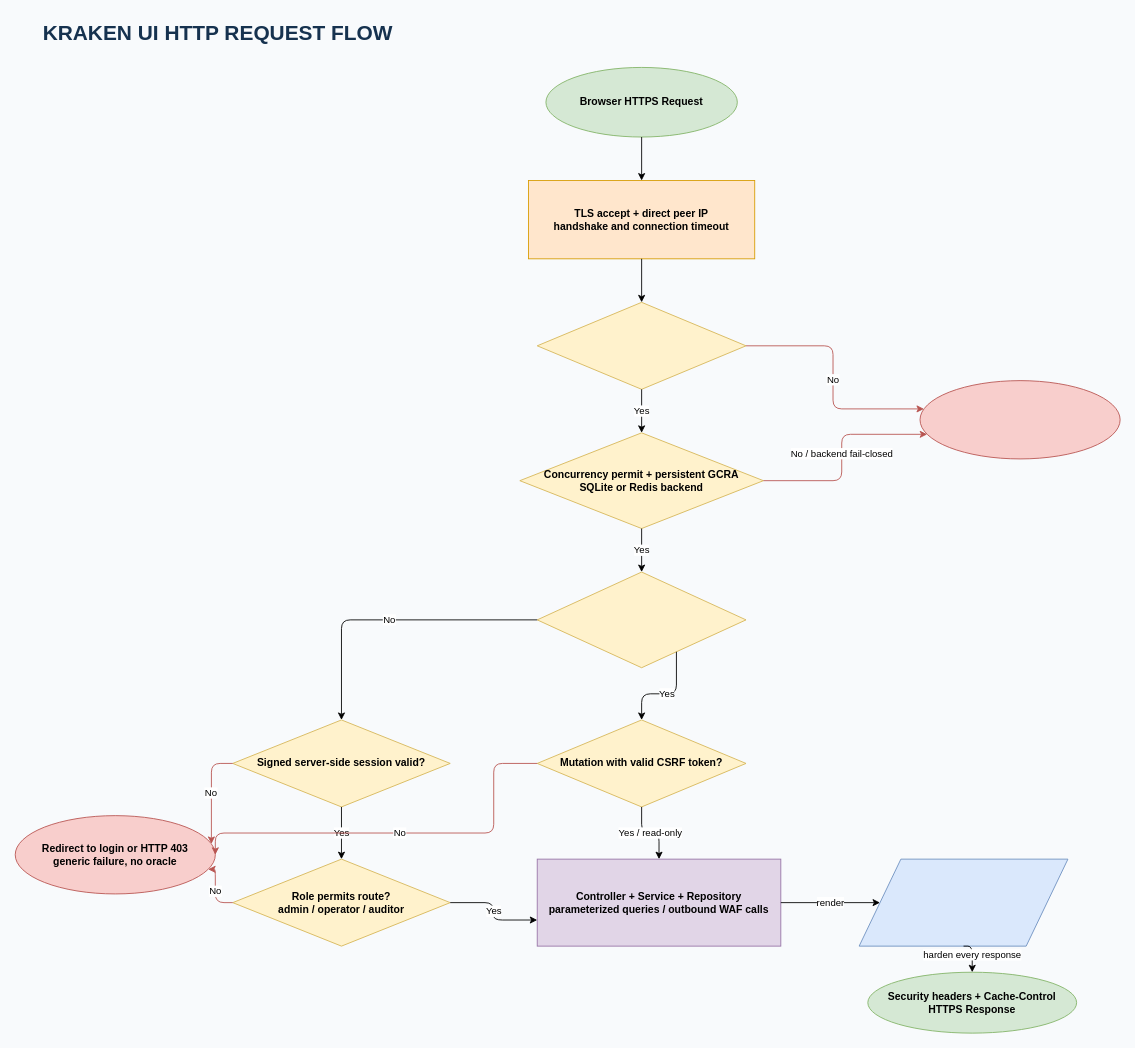
The diagram is 1135 pixels wide and 1048 high, and some of its shapes have lost their labels. The shapes that lost their labels are listed below. From the top down, each one's centre as x and y in pixels, then its label:
At [641,345]: "Process-local governor GCRA allows?".
At [1019,419]: "HTTP 429 / 503 Retry-After when limited".
At [641,619]: "Public route? login, static, health, first_time".
At [963,902]: "Askama HTML or JSON local assets + strict CSP".
